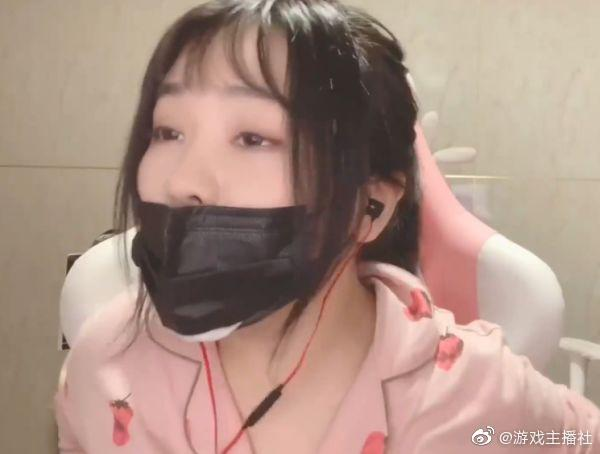WRONG: (135, 48, 334, 337)
